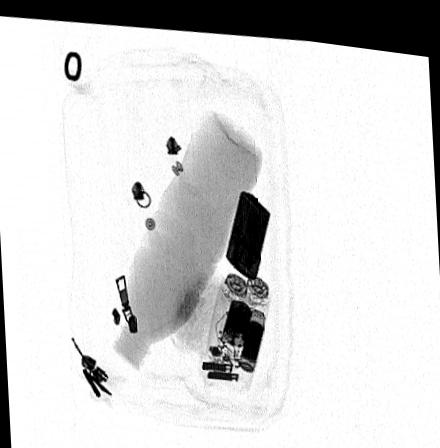Lighter: (225, 182, 271, 275)
